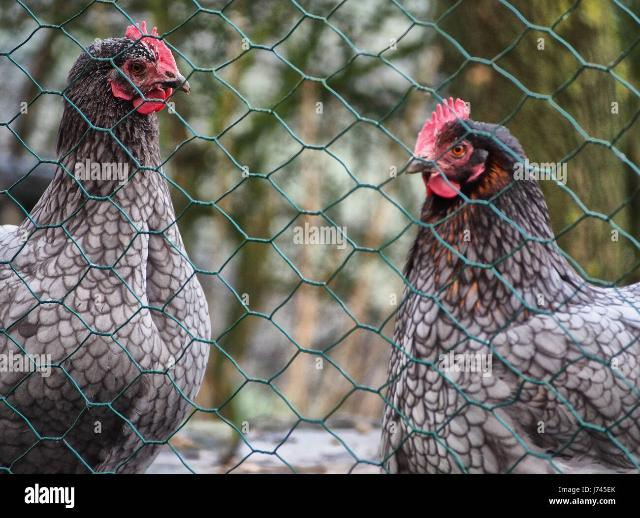Chicken: (382, 96, 640, 474), (0, 22, 214, 472)
